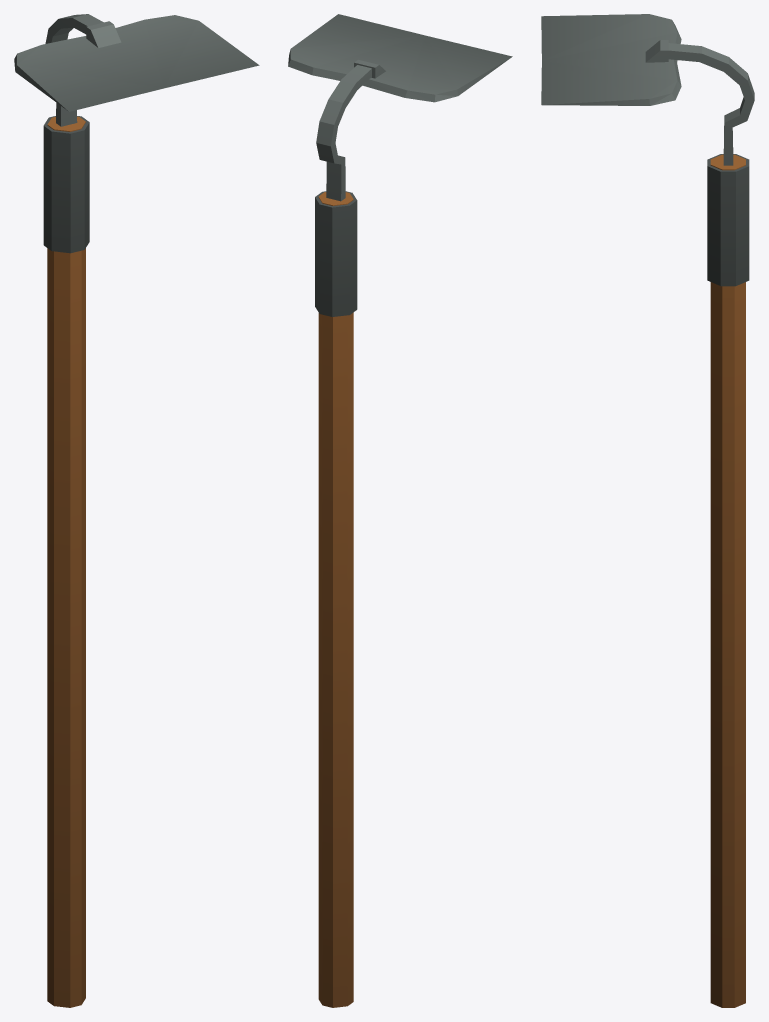
Rendered from Tool_Hoe_02.obj.
3 views of the same model, side by side, from view 1: azimuth 30°, elevation 25°; view 2: azimuth 150°, elevation 25°; view 3: azimuth 270°, elevation 25° (orthographic). The views are drawn at different scales.
Parts seen in each view (by area): view 1: Tool_Hoe_02; view 2: Tool_Hoe_02; view 3: Tool_Hoe_02.
Part boxes in pixels (x1,y1,x2,y2): Tool_Hoe_02: (14,14,259,1007); Tool_Hoe_02: (288,14,512,1007); Tool_Hoe_02: (541,14,754,1007).
Size of the model in its own units: 0.2824 by 1.41 by 0.2864.
1 material, 1 textured.
